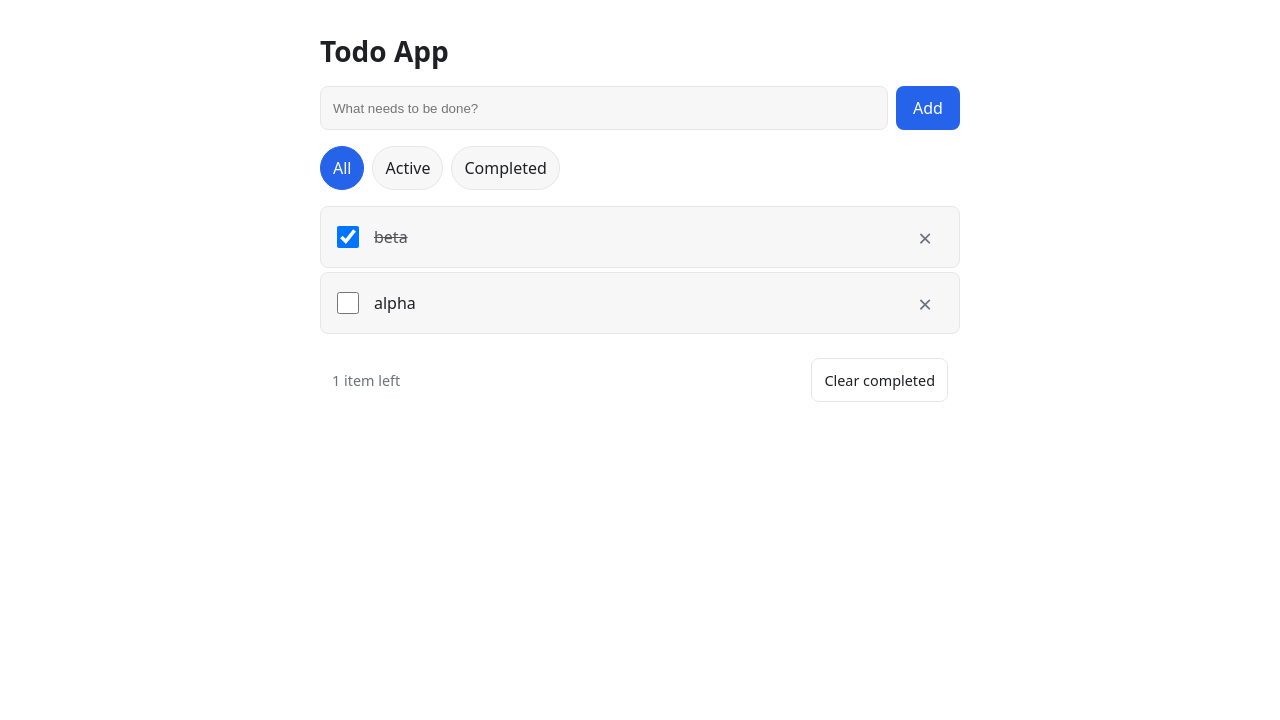
Test: Mutations: rollback + retry › clear completed: optimistic removal + 500 rollback + retry succeeds
Expected: the text "alpha" is shown, [374,292,416,314]
Expected: the text "beta" is shown, [374,226,408,248]
Click the button "Clear completed".
click(880, 380)  # box [811,358,948,402]
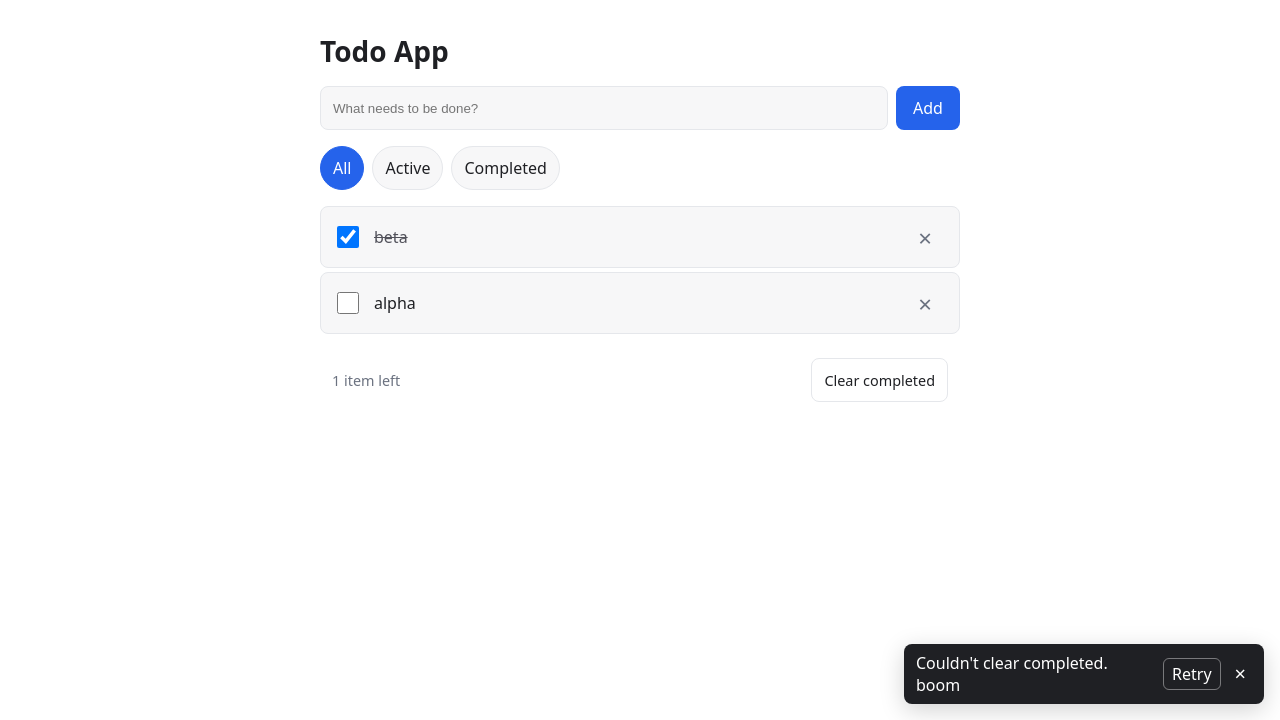
Expected: the text "beta" is shown, [374,226,408,248]
Click the button "Retry".
click(1192, 674)  # box [1163,658,1220,690]
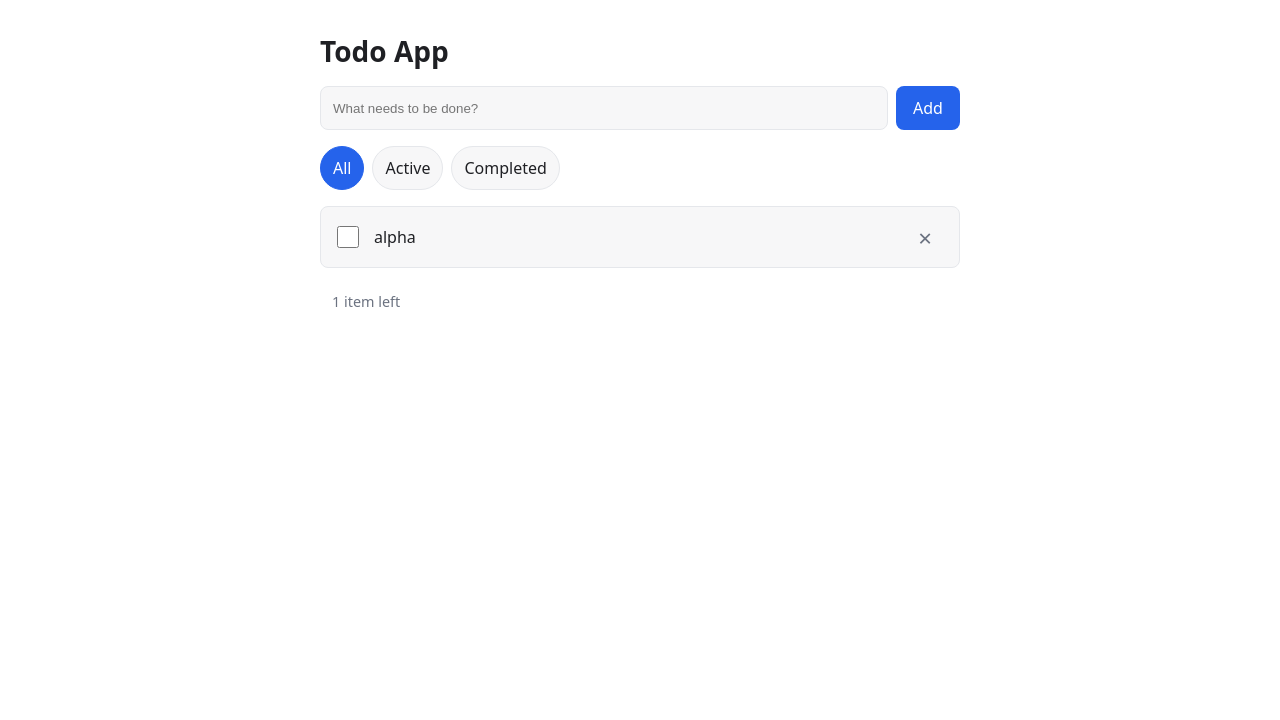
Expected: the text "beta" is gone
